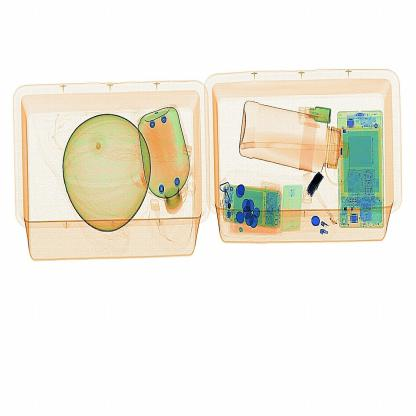scissors: (305, 170, 328, 196)
